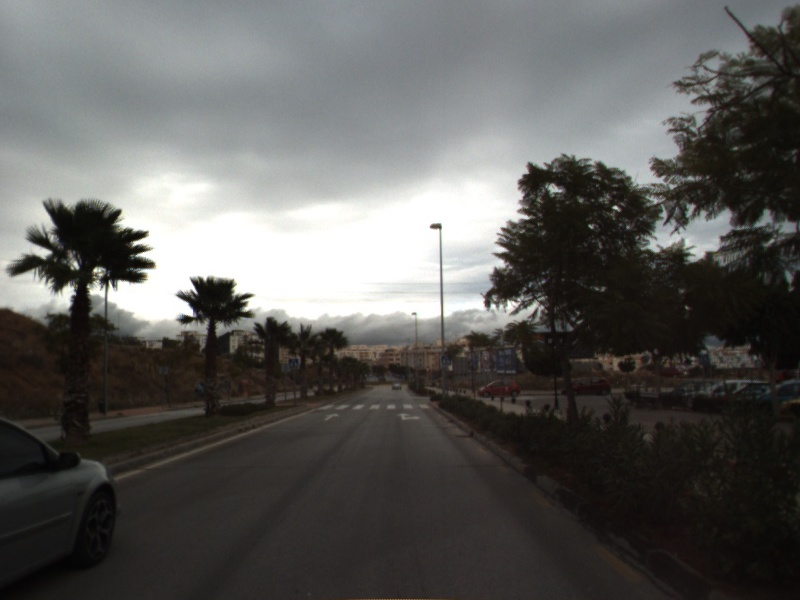STRAIGHT: (323, 411, 342, 422)
STRAIGHT_RIGHT: (395, 411, 422, 422)
